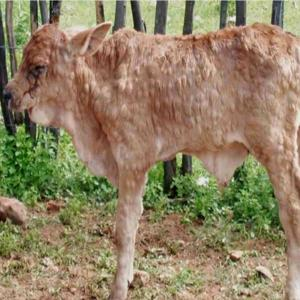lumpy skin diesease: (1, 16, 299, 299)
